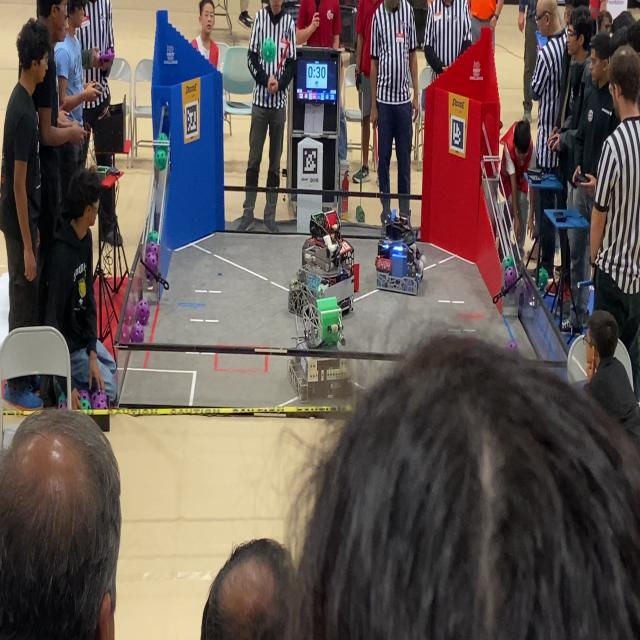artifact_green: (262, 38, 275, 63), (504, 267, 518, 290), (155, 149, 167, 171), (538, 267, 548, 290), (355, 205, 365, 223), (502, 255, 514, 269), (58, 393, 67, 409), (147, 230, 158, 243), (80, 398, 91, 410), (79, 390, 90, 400), (157, 133, 168, 141), (58, 400, 67, 409), (58, 393, 66, 403), (158, 133, 168, 141)
artifact_purple: (137, 300, 150, 325), (145, 253, 157, 280), (131, 322, 144, 343), (92, 392, 108, 409), (505, 267, 517, 289), (125, 302, 135, 325), (93, 395, 108, 409), (146, 242, 159, 257), (120, 325, 130, 343), (133, 273, 142, 291), (91, 390, 100, 407), (80, 398, 92, 410), (79, 390, 90, 402), (507, 340, 518, 351), (58, 400, 67, 409)
